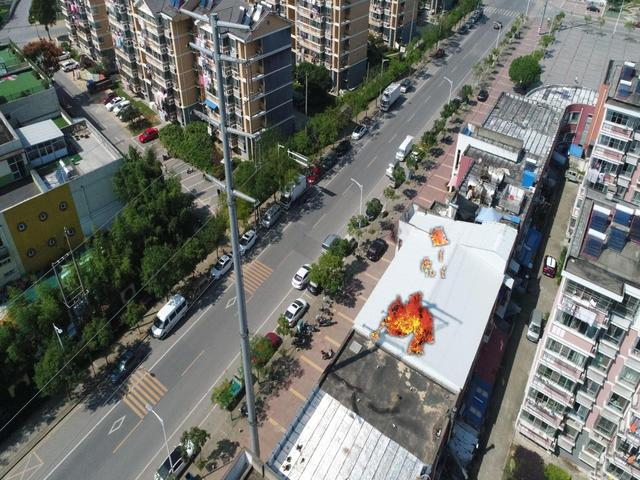fire: (371, 291, 435, 356), (387, 212, 449, 277)
